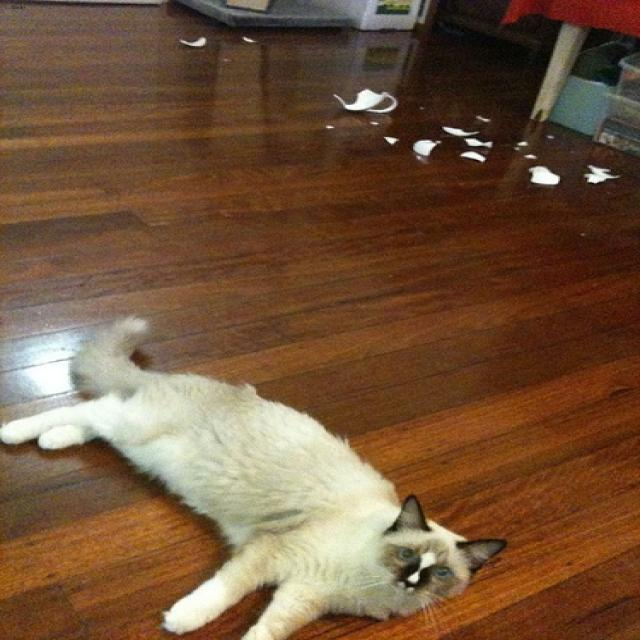Ragdoll: (367, 493, 513, 624)
